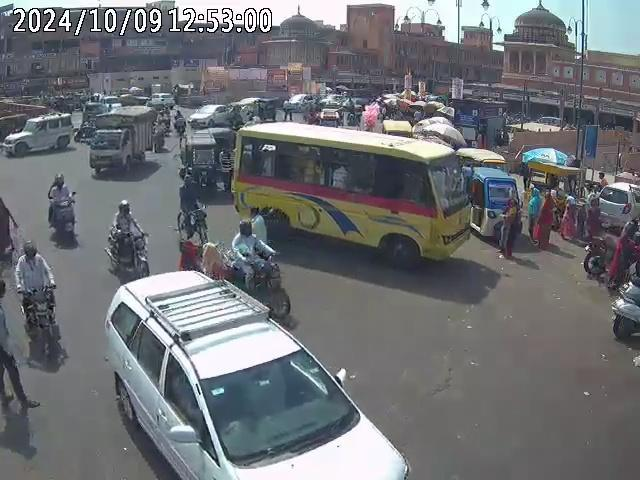auto: (464, 163, 519, 246), (178, 125, 235, 192)
bicycle-rider: (176, 189, 209, 256)
bus: (230, 122, 467, 266)
car: (103, 268, 414, 479), (1, 112, 76, 157), (596, 180, 638, 229)
helmet: (236, 219, 253, 237), (20, 240, 37, 258)
lorry: (88, 115, 156, 174)
motorbike-rider: (224, 219, 289, 324), (10, 240, 59, 366), (105, 200, 150, 279), (581, 226, 618, 289)
person: (560, 194, 589, 243), (177, 231, 205, 273)
scooty-rider: (45, 173, 80, 245)
